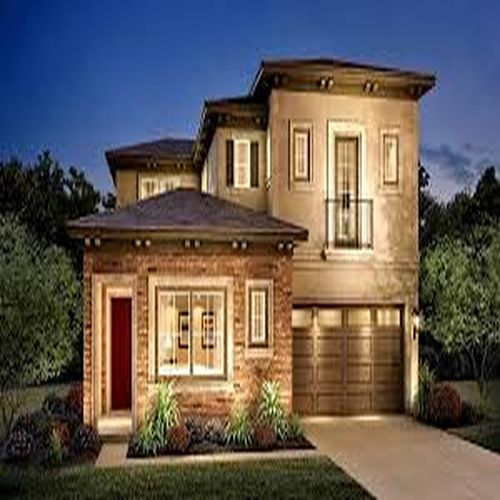Building House: (70, 58, 434, 427)
